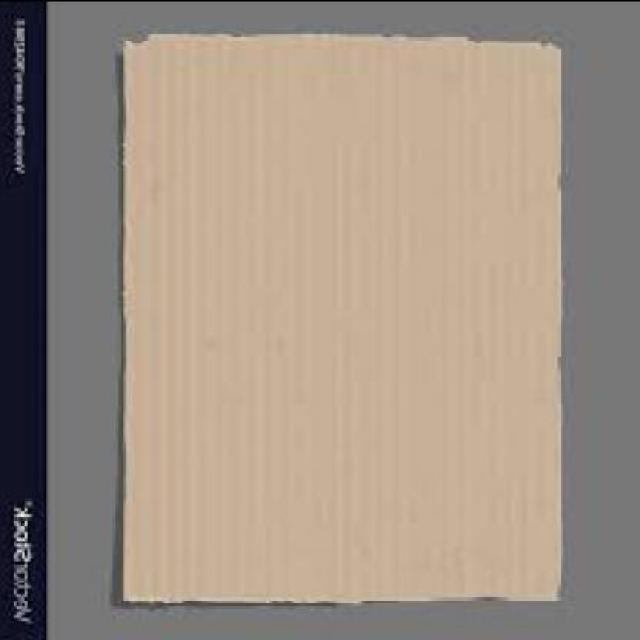CARDBOARD: (121, 32, 565, 611)
